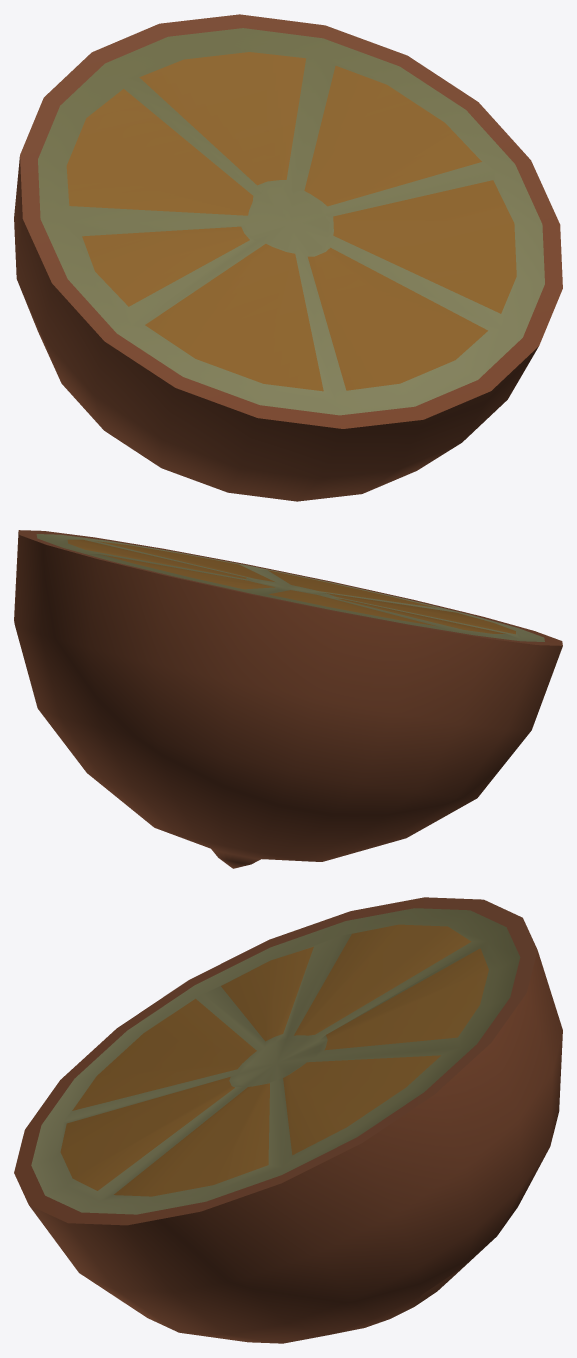
The model's file is SM_Fruits_Orange_3.glb.
3 views of the same model, one above another, from view 1: azimuth 30°, elevation 25°; view 2: azimuth 150°, elevation 25°; view 3: azimuth 270°, elevation 25° (orthographic). The views are drawn at different scales.
Parts seen in each view (by area): view 1: geometry_0; view 2: geometry_0; view 3: geometry_0.
Part boxes in pixels (x1,y1,x2,y2): geometry_0: (14, 14, 562, 501); geometry_0: (14, 530, 562, 868); geometry_0: (14, 897, 562, 1343).
Bounding box in the file's own units: 0.162 × 0.1129 × 0.1543.
Materials: 1 (1 with a texture image).
